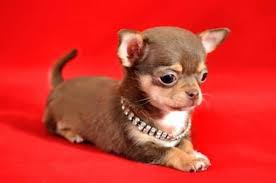chihuahua: (31, 14, 238, 172)
